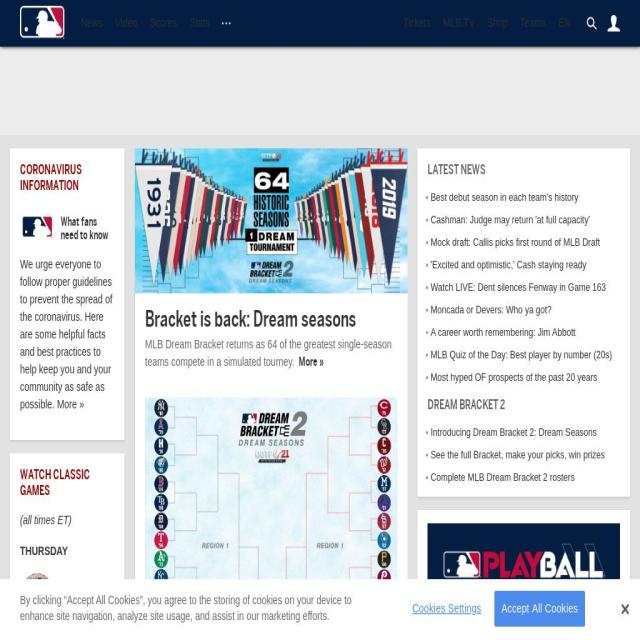button: (144, 397, 397, 640), (135, 148, 407, 294), (427, 523, 620, 640), (145, 307, 397, 333), (20, 206, 115, 242), (494, 591, 585, 627), (404, 592, 484, 626), (432, 0, 476, 47), (143, 0, 184, 47), (393, 0, 434, 47), (514, 0, 554, 47), (74, 0, 110, 47), (108, 0, 144, 47), (20, 5, 65, 42), (20, 206, 54, 252), (183, 0, 216, 47), (479, 0, 512, 47), (552, 0, 577, 47), (597, 15, 620, 32), (586, 17, 597, 30)
heading: (145, 307, 397, 333)
image: (144, 397, 397, 640), (135, 148, 407, 294), (427, 523, 620, 640), (20, 206, 54, 252), (20, 573, 54, 619), (20, 5, 65, 39), (607, 15, 620, 32), (586, 17, 597, 30), (621, 602, 629, 618), (222, 18, 231, 29)
link: (430, 348, 612, 361), (430, 448, 605, 461), (430, 281, 606, 293), (430, 213, 590, 226), (430, 236, 600, 248), (430, 258, 586, 271), (430, 371, 598, 383), (430, 426, 597, 438), (430, 191, 579, 203), (430, 326, 576, 338), (430, 471, 574, 483), (430, 303, 552, 316), (297, 354, 324, 370), (57, 397, 85, 411)
text: (20, 257, 112, 411), (20, 592, 384, 624), (145, 338, 393, 369), (20, 206, 115, 242), (20, 573, 115, 609), (427, 162, 620, 178), (20, 162, 115, 193), (20, 467, 115, 498), (427, 397, 620, 412), (20, 624, 111, 640), (149, 16, 185, 46), (392, 16, 427, 46), (439, 16, 470, 46), (517, 16, 547, 46), (115, 16, 141, 46), (189, 16, 215, 46), (81, 16, 106, 46), (482, 16, 506, 46), (20, 513, 71, 527), (20, 544, 68, 558), (558, 16, 570, 46)
